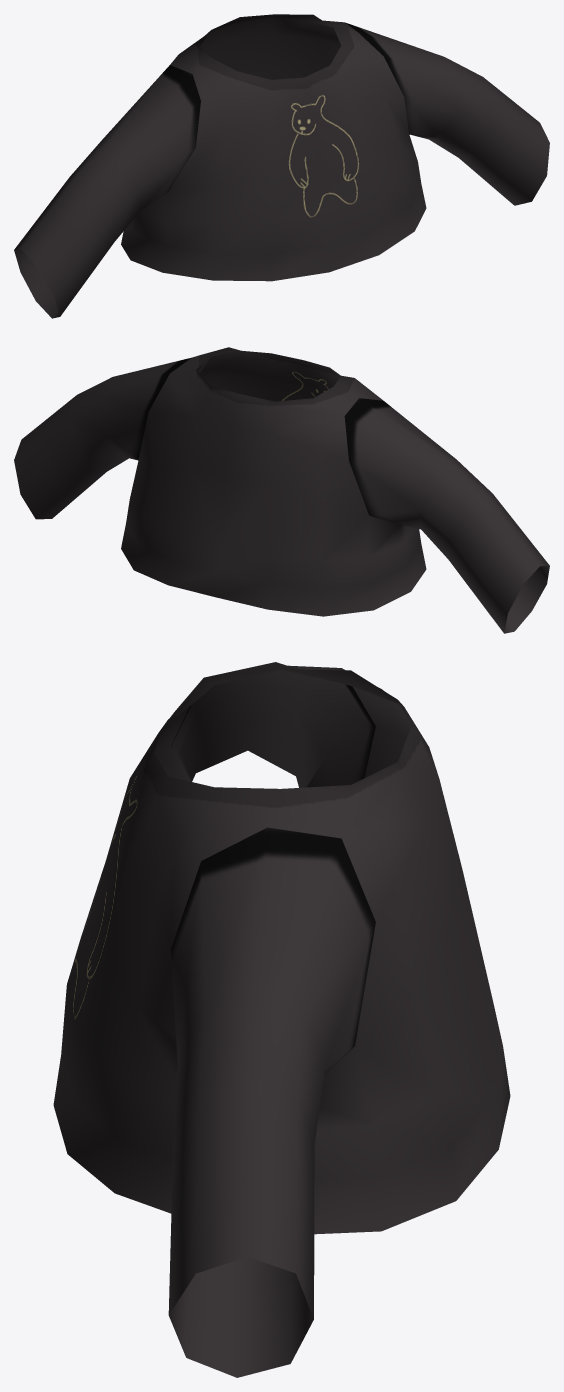
File: Bear_Sweater.glb
3 views of the same model, one above another, from view 1: azimuth 30°, elevation 25°; view 2: azimuth 150°, elevation 25°; view 3: azimuth 270°, elevation 25° (orthographic). The views are drawn at different scales.
Visible parts, largest first — view 1: Bear_Sweater; view 2: Bear_Sweater; view 3: Bear_Sweater.
Part boxes in pixels (x1,y1,x2,y2): Bear_Sweater: [14, 14, 549, 318]; Bear_Sweater: [14, 347, 549, 633]; Bear_Sweater: [53, 662, 510, 1377].
Bounding box in the file's own units: 0.9573 × 0.376 × 0.3652.
Materials: 1 (1 with a texture image).
